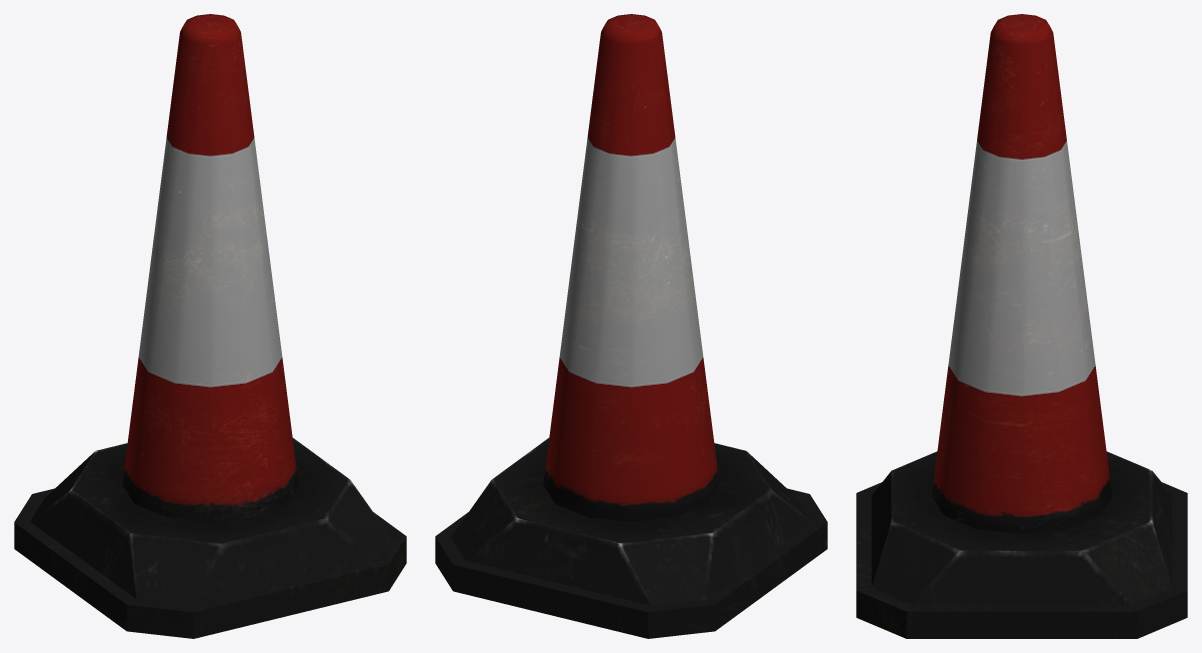
Rendered from Road_cones_LOD0.fbx.
3 renders of one model, left to right at view 1: azimuth 30°, elevation 25°; view 2: azimuth 150°, elevation 25°; view 3: azimuth 270°, elevation 25°, orthographic. The views are drawn at different scales.
Parts seen in each view (by area): view 1: pacholek:polySurface1; view 2: pacholek:polySurface1; view 3: pacholek:polySurface1.
Boxes of the visible parts, x1,y1,x2,y2 form: pacholek:polySurface1: (14,14,406,638); pacholek:polySurface1: (435,14,827,638); pacholek:polySurface1: (856,14,1187,638).
Size of the model in its own units: 0.5769 by 1.05 by 0.5769.
